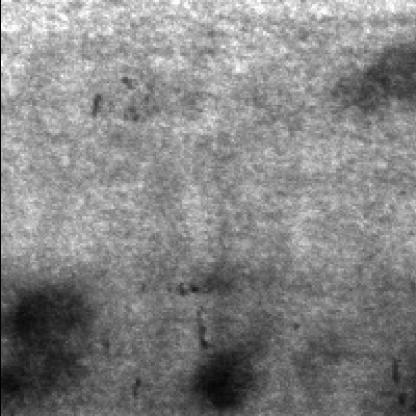patches: (4, 280, 100, 408), (189, 339, 264, 412), (352, 45, 416, 106)
